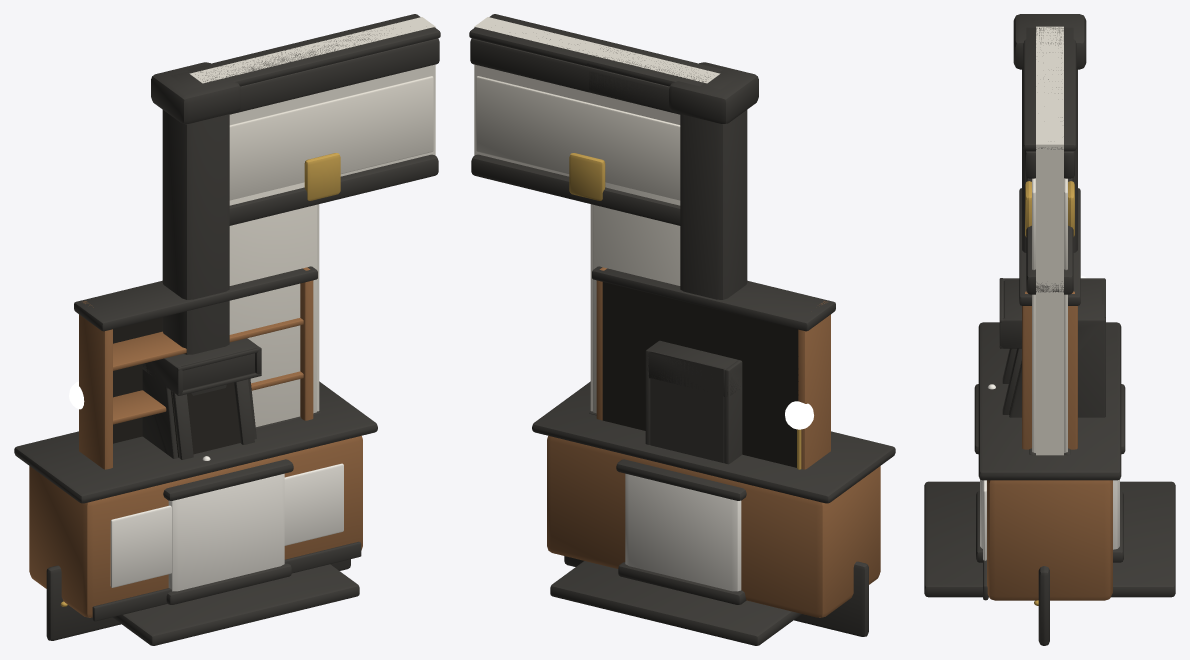
The model's file is kit.glb.
The picture shows the model from 3 angles, left to right: view 1: azimuth 30°, elevation 25°; view 2: azimuth 150°, elevation 25°; view 3: azimuth 270°, elevation 25°; orthographic projection. The views are drawn at different scales.
Parts seen in each view (by area): view 1: desk, lintel_2m, post, bookshelf, wall_1m, plinth, arcade_cabinet, skylight, sign; view 2: desk, lintel_2m, bookshelf, post, plinth, arcade_cabinet, wall_1m, skylight, sign; view 3: desk, lintel_2m, skylight, arcade_cabinet, wall_1m, bookshelf, post, plinth, sign.
Boxes of the visible parts, left/top/right/bottom form: desk: left=14, top=381, right=377, bottom=621; lintel_2m: left=187, top=14, right=440, bottom=225; post: left=151, top=62, right=240, bottom=395; bookshelf: left=74, top=266, right=317, bottom=469; wall_1m: left=229, top=64, right=322, bottom=429; plinth: left=163, top=459, right=293, bottom=604; arcade_cabinet: left=142, top=338, right=261, bottom=460; skylight: left=112, top=564, right=359, bottom=645; sign: left=46, top=559, right=350, bottom=640; desk: left=532, top=381, right=895, bottom=617; lintel_2m: left=469, top=14, right=722, bottom=225; bookshelf: left=592, top=266, right=835, bottom=469; post: left=669, top=62, right=758, bottom=299; plinth: left=616, top=459, right=746, bottom=604; arcade_cabinet: left=645, top=340, right=742, bottom=464; wall_1m: left=587, top=63, right=680, bottom=415; skylight: left=550, top=561, right=801, bottom=645; sign: left=564, top=556, right=868, bottom=636; desk: left=978, top=275, right=1121, bottom=600; lintel_2m: left=1023, top=26, right=1076, bottom=296; skylight: left=924, top=481, right=1175, bottom=597; arcade_cabinet: left=987, top=278, right=1105, bottom=417; wall_1m: left=1029, top=294, right=1070, bottom=455; bookshelf: left=1019, top=188, right=1080, bottom=449; post: left=1013, top=14, right=1086, bottom=252; plinth: left=974, top=384, right=1125, bottom=562; sign: left=1034, top=566, right=1049, bottom=645.
Size of the model in its own units: 3.3 by 4.3 by 1.8.
